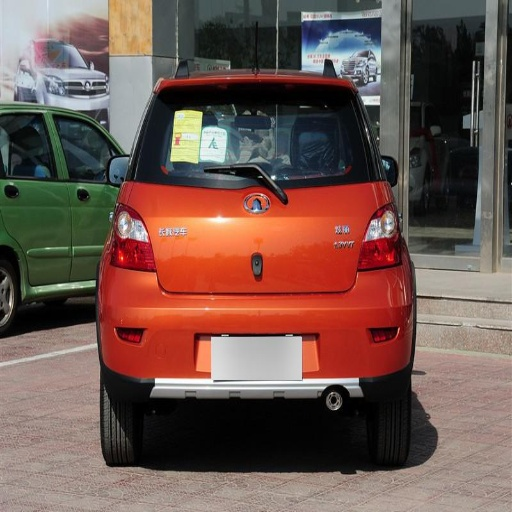back_bumper: (103, 261, 410, 395)
back_left_light: (106, 201, 156, 271)
back_right_door: (2, 108, 70, 286)
trunk: (124, 182, 381, 300), (200, 314, 316, 330)
